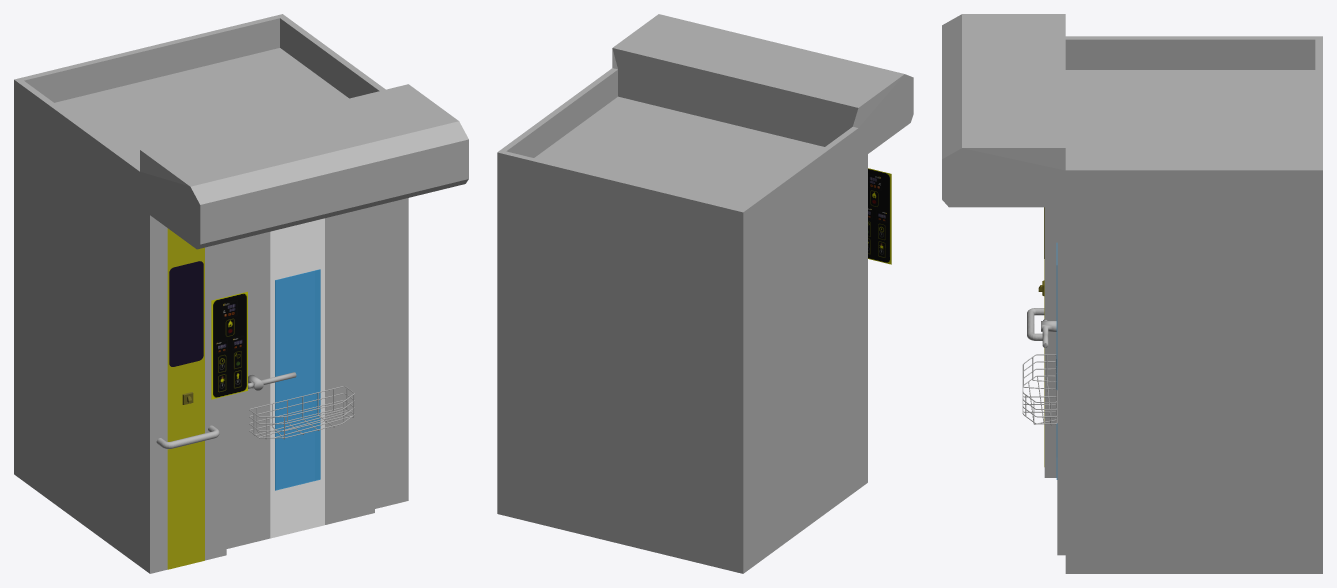
File: ESV 2 .glb
3 views of the same model, side by side, from view 1: azimuth 30°, elevation 25°; view 2: azimuth 150°, elevation 25°; view 3: azimuth 270°, elevation 25° (orthographic). The views are drawn at different scales.
Visible parts, largest first — view 1: Cuerpo.001, Puerta, Cristal, LAMINA AMARILLA CUADRO, Cristal negro, Captura de pantalla 2025-08-08 130437, CUADRO ELECT NEGRO, CANASTILLA; view 2: Cuerpo.001, Captura de pantalla 2025-08-08 130437; view 3: Cuerpo.001, Puerta, CANASTILLA.
Boxes of the visible parts, x1=… form: Cuerpo.001: x1=14, y1=14, x2=468, y2=573; Puerta: x1=226, y1=206, x2=374, y2=548; Cristal: x1=275, y1=269, x2=320, y2=490; LAMINA AMARILLA CUADRO: x1=167, y1=228, x2=204, y2=569; Cristal negro: x1=270, y1=218, x2=324, y2=538; Captura de pantalla 2025-08-08 130437: x1=211, y1=291, x2=247, y2=399; CUADRO ELECT NEGRO: x1=169, y1=261, x2=203, y2=366; CANASTILLA: x1=249, y1=386, x2=354, y2=439; Cuerpo.001: x1=497, y1=14, x2=913, y2=573; Captura de pantalla 2025-08-08 130437: x1=868, y1=168, x2=891, y2=264; Cuerpo.001: x1=942, y1=14, x2=1322, y2=573; Puerta: x1=1057, y1=207, x2=1065, y2=555; CANASTILLA: x1=1022, y1=354, x2=1057, y2=425.
Size of the model in its own units: 1.72 by 2.55 by 2.07.
Materials: 7 (1 with a texture image).
